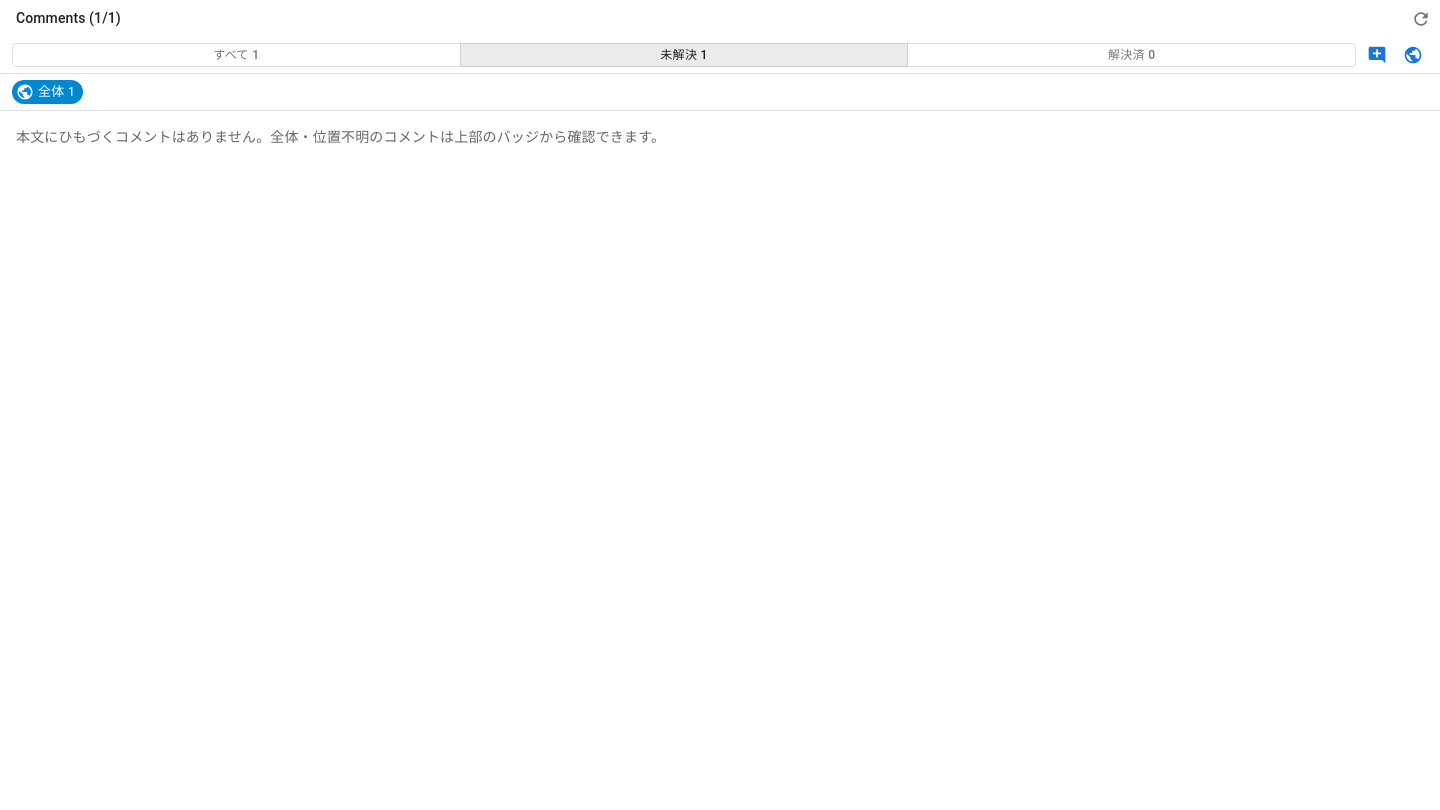
Test: CommentSidePane › global/orphan badges (#316) › opens the dialog with the comment body when a badge is pressed
Click the button with test id "global-comment-badge".
click(48, 92)  # box [12, 80, 83, 104]
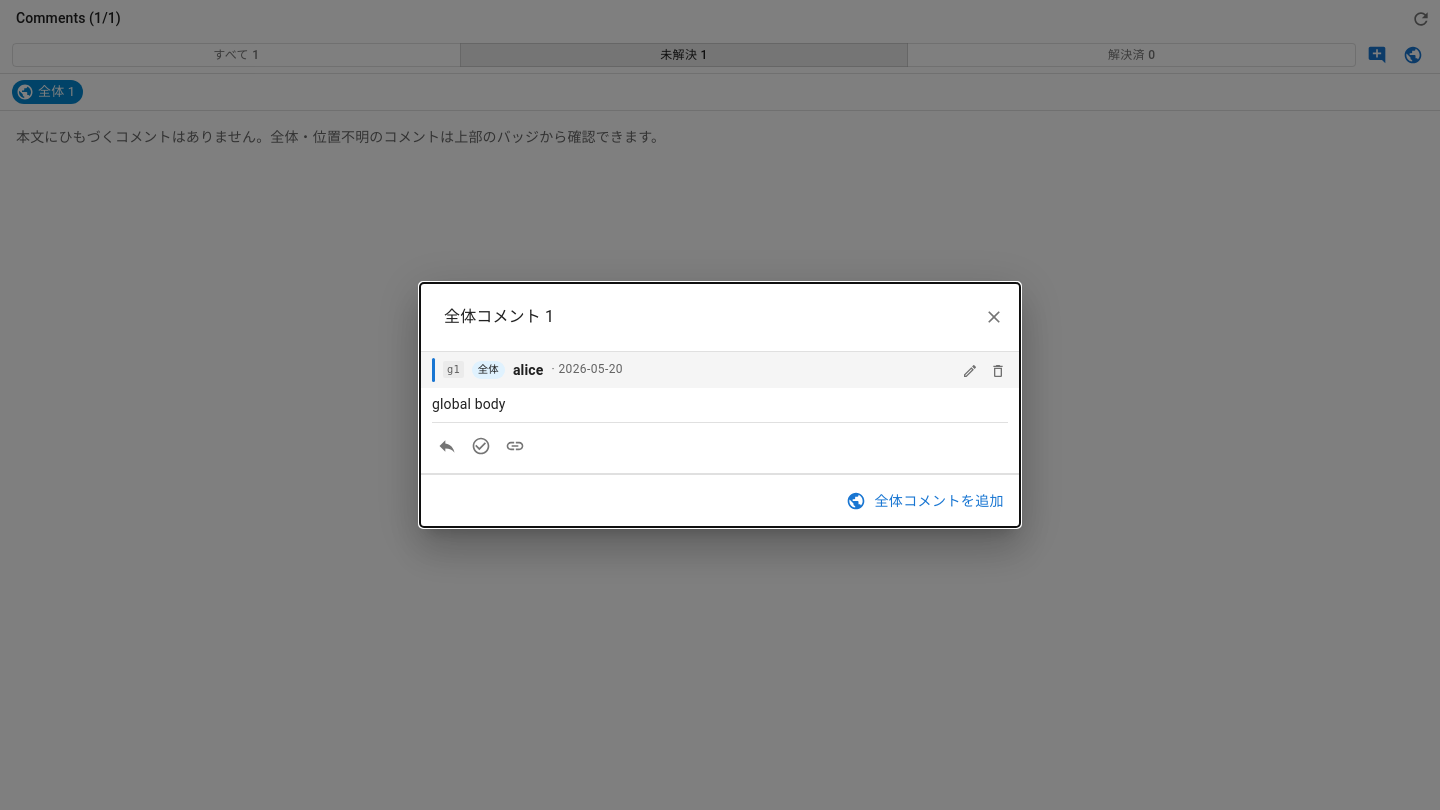
Expected: the element with test id "global-comments-dialog" is shown
Expected: the text "global body" is shown, [432, 396, 506, 412]
